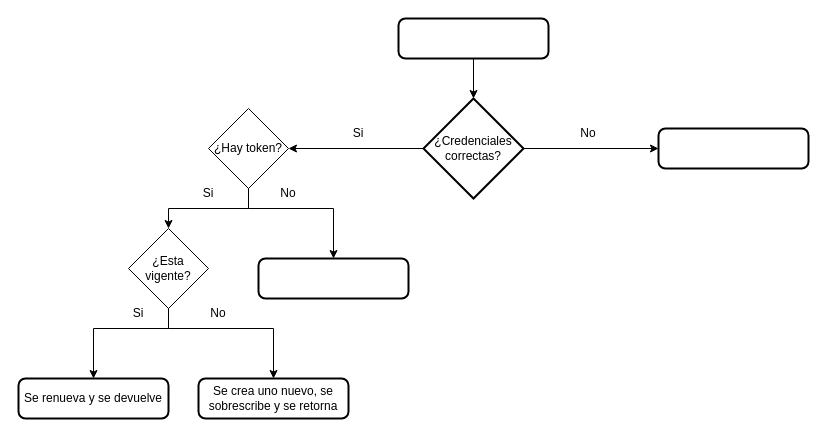
The diagram is 826 pixels wide and 436 high, and some of its shapes have lost their labels. Each missing label, with the centre of its shape:
Login: pixel 473 38
No autorizado: pixel 733 148
Se crea y se devuelve token: pixel 333 278
